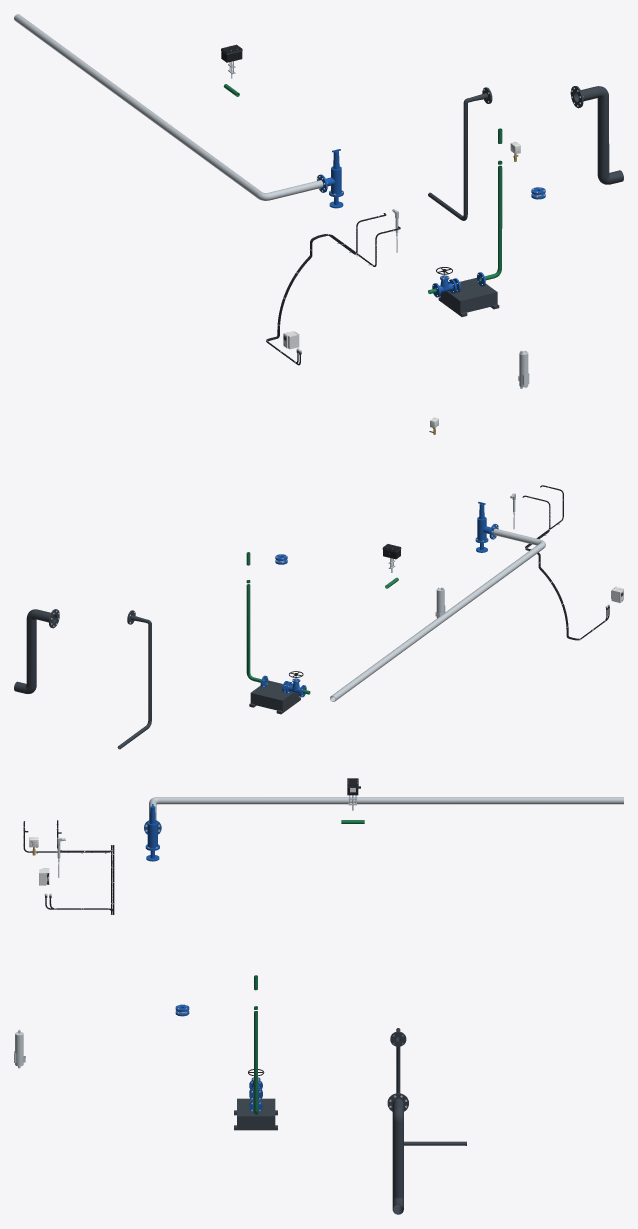
3 views of the same model, one above another, from view 1: azimuth 30°, elevation 25°; view 2: azimuth 150°, elevation 25°; view 3: azimuth 270°, elevation 25° (orthographic). The views are drawn at different scales.
Visible parts, largest first — view 1: safety_vent_1 / steel, bdv_water_drain / dark, pump_branch_2 / dark, bottom_to_bdv / dark, pump_branch_2 / green, safety_1 / blue, wiring_lp200 / black; view 2: safety_vent_1 / steel, bdv_water_drain / dark, pump_branch_2 / dark, bottom_to_bdv / dark, pump_branch_2 / green, safety_1 / blue; view 3: safety_vent_1 / steel, bdv_water_drain / dark, pump_branch_2 / dark, bottom_to_bdv / dark.
Boxes of the visible parts, x1,y1,x2,y2 form: safety_vent_1 / steel: (14,14,323,200); bdv_water_drain / dark: (570,86,623,184); pump_branch_2 / dark: (438,277,499,316); bottom_to_bdv / dark: (428,87,492,220); pump_branch_2 / green: (428,128,502,293); safety_1 / blue: (317,149,343,197); wiring_lp200 / black: (267,226,400,365); safety_vent_1 / steel: (330,528,545,701); bdv_water_drain / dark: (14,609,59,693); pump_branch_2 / dark: (249,680,300,714); bottom_to_bdv / dark: (117,610,151,749); pump_branch_2 / green: (246,552,310,694); safety_1 / blue: (475,502,498,543); safety_vent_1 / steel: (149,797,623,820); bdv_water_drain / dark: (387,1093,408,1214); pump_branch_2 / dark: (234,1098,277,1130); bottom_to_bdv / dark: (390,1028,466,1145).
Bounding box in the file's own units: 5.86 × 2.85 × 6.22.
